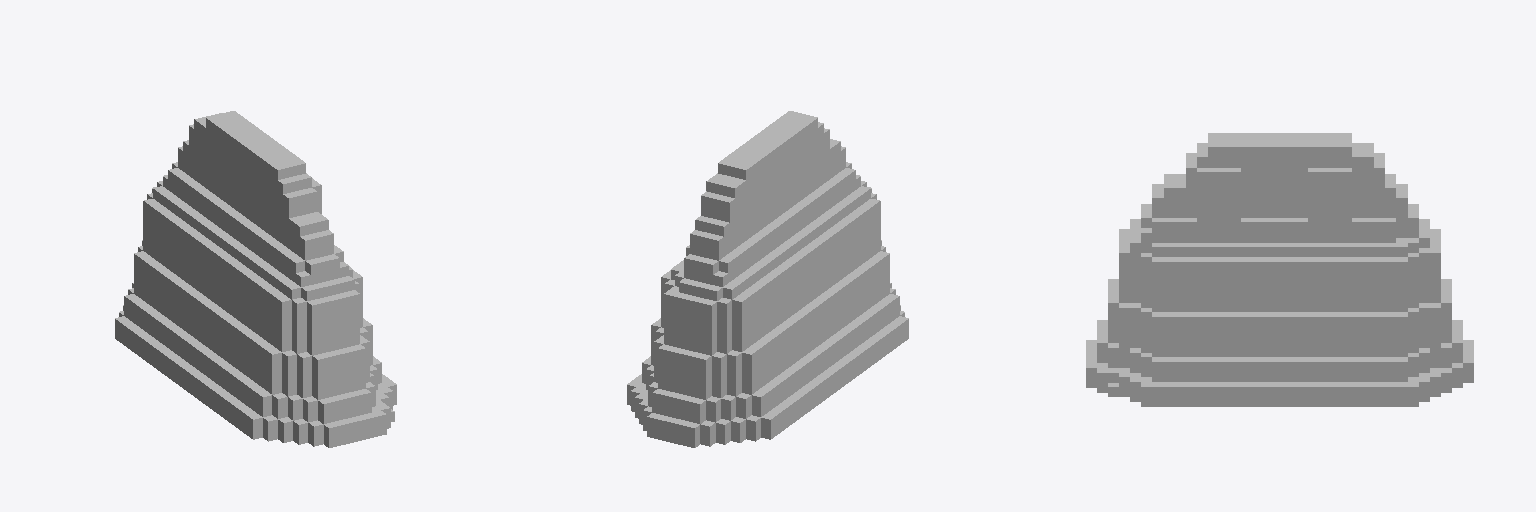
File: bob-the-blob_2.obj
The picture shows the model from 3 angles: view 1: azimuth 30°, elevation 25°; view 2: azimuth 150°, elevation 25°; view 3: azimuth 270°, elevation 25°; orthographic projection.
Visible parts, largest first — view 1: bob-the-blob_2; view 2: bob-the-blob_2; view 3: bob-the-blob_2.
Boxes of the visible parts, x1=… form: bob-the-blob_2: x1=115, y1=111, x2=396, y2=447; bob-the-blob_2: x1=627, y1=111, x2=908, y2=447; bob-the-blob_2: x1=1086, y1=133, x2=1473, y2=406.
Size of the model in its own units: 1.5 by 2.3 by 3.5.